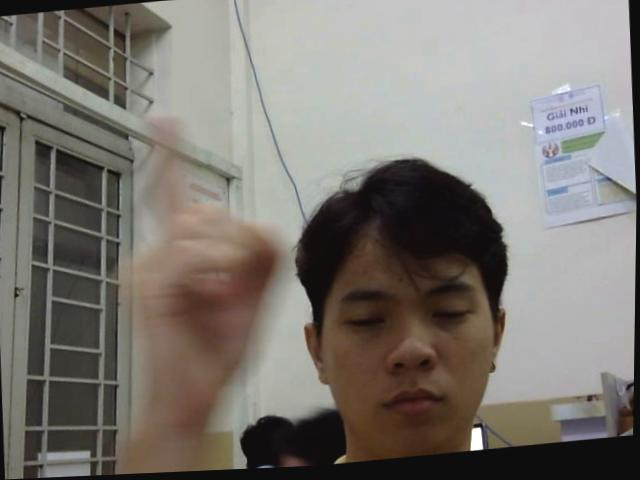D: (118, 103, 293, 418)
